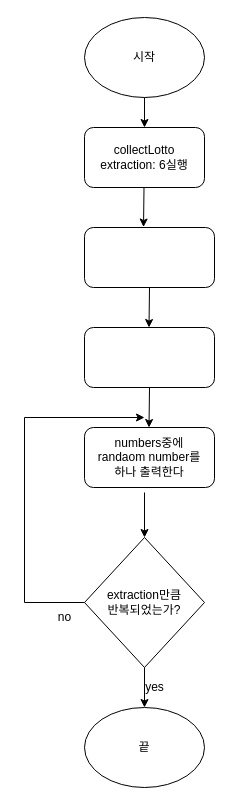
Some shapes in this 232 by 805 pixel diagram are drawn without their labels. The centre of each missing label's shape, as x and y in pixels:
"extraction만큼 내부 코드블럭을 반복한다" belongs at point (149, 357).
"let numbers 컬렉션 set인1~45할당" belongs at point (149, 257).
